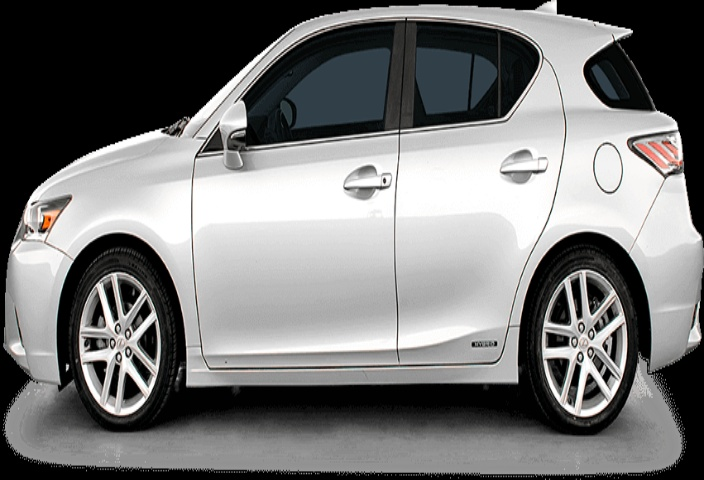car: (12, 1, 704, 453)
